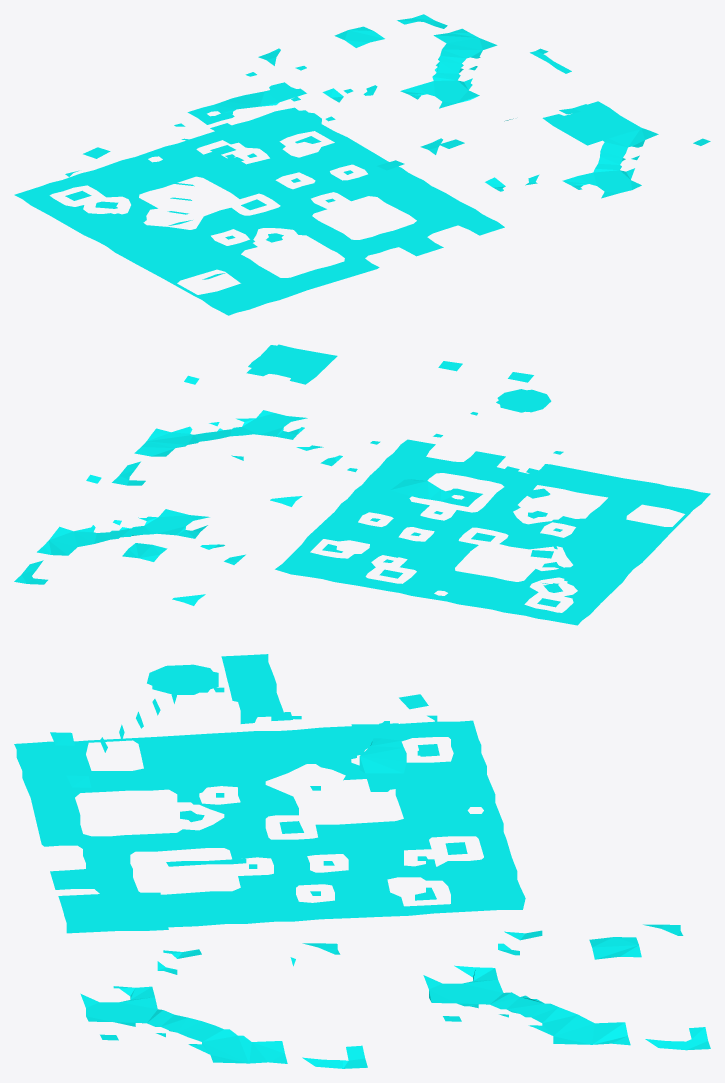
File: dmesh_test.obj
3 views of the same model, one above another, from view 1: azimuth 30°, elevation 25°; view 2: azimuth 150°, elevation 25°; view 3: azimuth 270°, elevation 25° (orthographic). The views are drawn at different scales.
Bounding box in the file's own units: 89.7 × 19 × 75.6.
